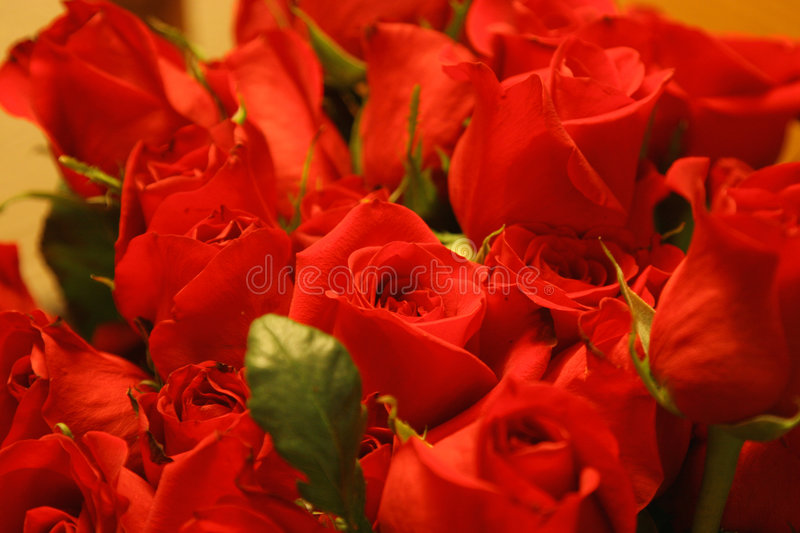RedRose: (97, 106, 336, 376), (457, 24, 672, 278), (139, 345, 351, 533)
